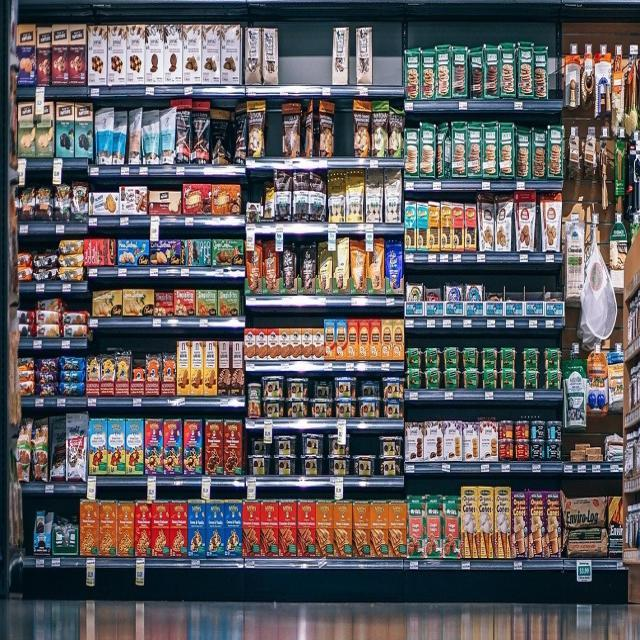Imprecise: (208, 102, 232, 166), (245, 429, 272, 481), (48, 410, 68, 480), (357, 374, 382, 421), (308, 374, 333, 418), (304, 98, 314, 162), (153, 289, 175, 314)
